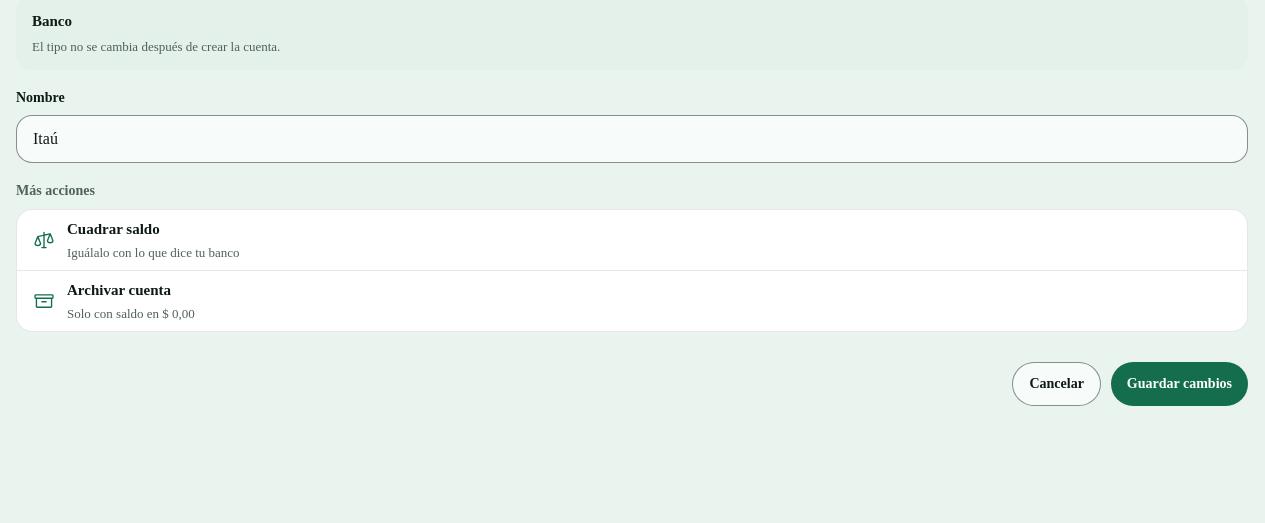
Test: saving › explains any other failure in Spanish
The width and height of the screenshot is (1265, 523).
Replace the text in the field labelled "Nombre" with "Otro" at (632, 139), box [16,115,1248,163]
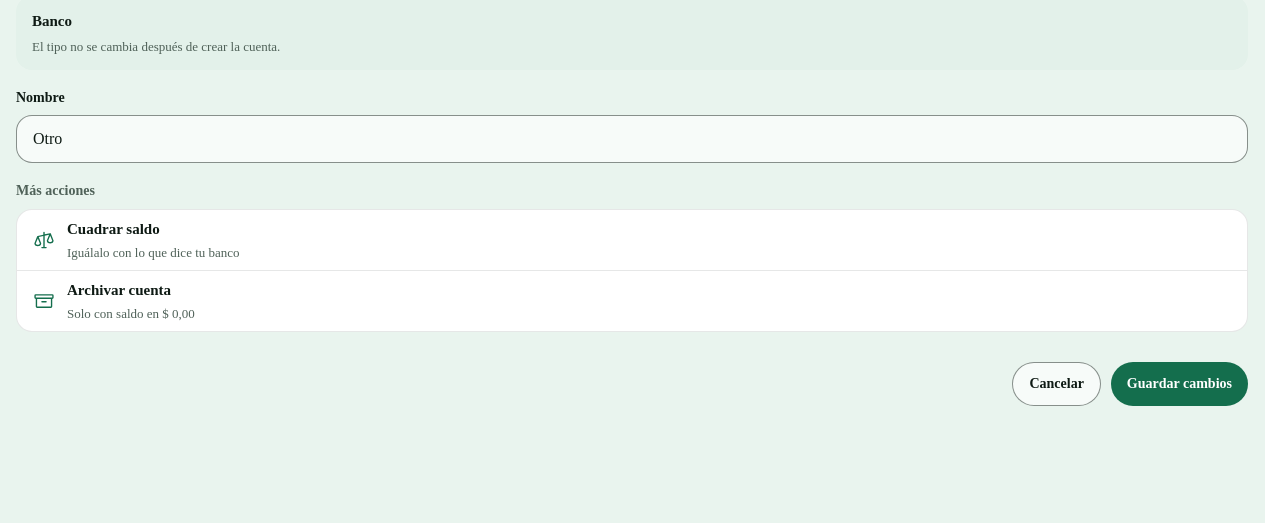
Click the button "Guardar cambios".
click(1179, 384)  # box [1111,362,1248,406]
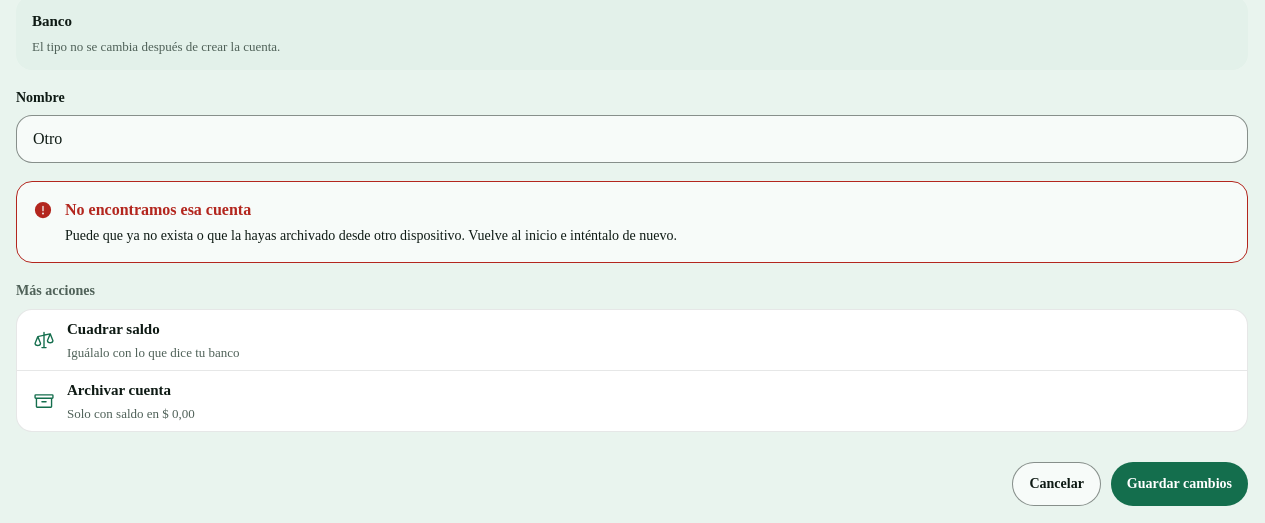
Now the text "No encontramos esa cuenta" is shown, box [65,201,251,218]
